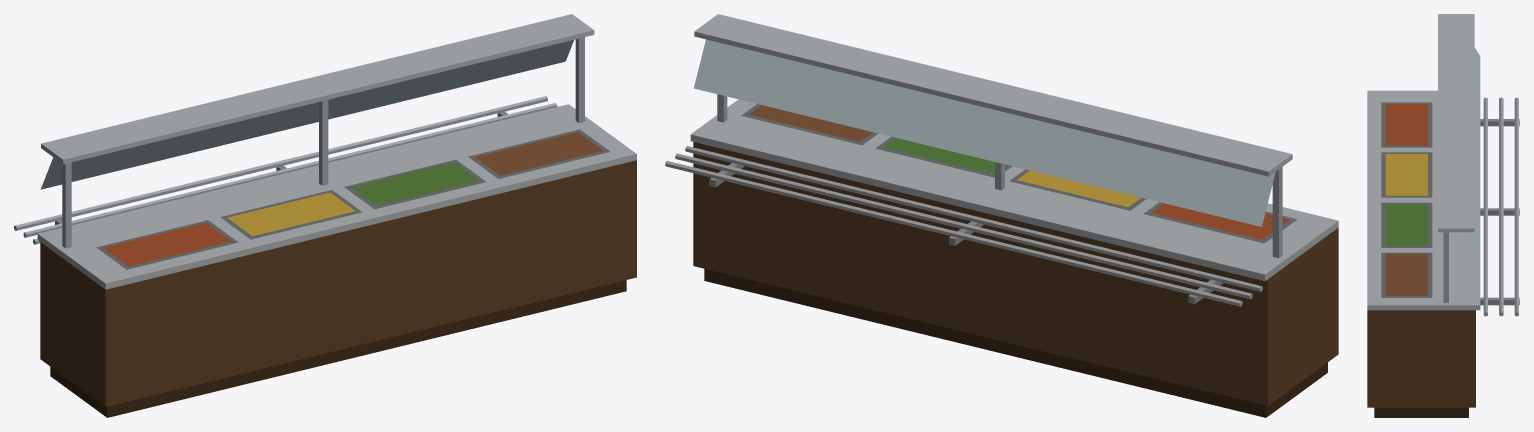
The model's file is shop.serving_line.wood.glb.
The picture shows the model from 3 angles, left to right: view 1: azimuth 30°, elevation 25°; view 2: azimuth 150°, elevation 25°; view 3: azimuth 270°, elevation 25°; orthographic projection. The views are drawn at different scales.
Parts seen in each view (by area): view 1: shop_serving_line_wood; view 2: shop_serving_line_wood; view 3: shop_serving_line_wood.
Part boxes in pixels (left/top/right/bottom): shop_serving_line_wood: left=14, top=14, right=636, bottom=417; shop_serving_line_wood: left=665, top=14, right=1338, bottom=417; shop_serving_line_wood: left=1367, top=14, right=1519, bottom=417.
Size of what is drawn, in the model's own units: 3.6 by 1.5 by 1.08.
